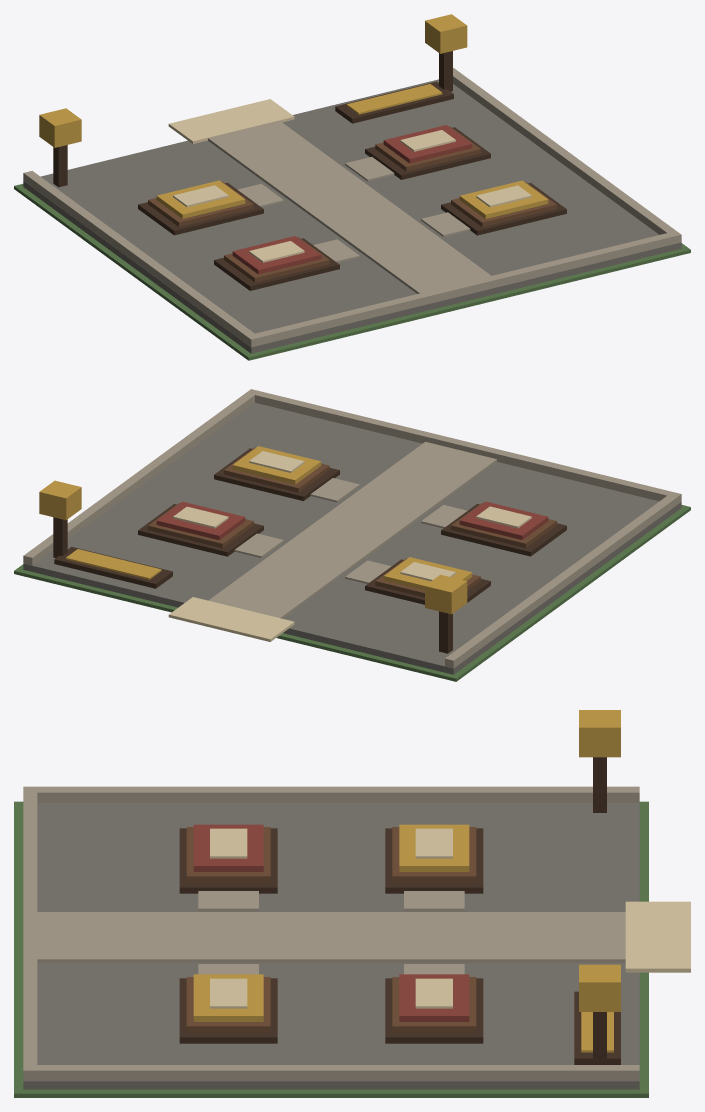
File: KLC_Plot_PlayerBase_Floor01.fbx
3 renders of one model, top to bottom at view 1: azimuth 30°, elevation 25°; view 2: azimuth 150°, elevation 25°; view 3: azimuth 270°, elevation 25°, orthographic. The views are drawn at different scales.
Visible parts, largest first — view 1: F1_Main_Slab, F1_Central_Aisle, F1_Rear_Curb, F1_Grass_Foundation, F1_Left_Curb, F1_Right_Curb, F1_Entrance_Apron, F1_Podium_Top_02, F1_Podium_Top_06, F1_Podium_Top_07, F1_Podium_Top_01, F1_Left_Lamp (+21 smaller); view 2: F1_Main_Slab, F1_Central_Aisle, F1_Rear_Curb, F1_Grass_Foundation, F1_Left_Curb, F1_Right_Curb, F1_Entrance_Apron, F1_Podium_Top_06, F1_Podium_Top_02, F1_Podium_Top_07, F1_Right_Lamp, F1_Left_Lamp (+21 smaller); view 3: F1_Main_Slab, F1_Central_Aisle, F1_Grass_Foundation, F1_Left_Curb, F1_Right_Curb, F1_Entrance_Apron, F1_Rear_Curb, F1_Podium_Top_06, F1_Podium_Top_07, F1_Podium_Top_01, F1_Podium_Top_02, F1_Podium_Base_06 (+21 smaller).
Boxes of the visible parts, left/top/right/bottom form: F1_Main_Slab: left=23, top=79, right=681, bottom=353; F1_Central_Aisle: left=208, top=120, right=502, bottom=303; F1_Rear_Curb: left=255, top=233, right=672, bottom=344; F1_Grass_Foundation: left=14, top=184, right=690, bottom=360; F1_Left_Curb: left=23, top=170, right=259, bottom=347; F1_Right_Curb: left=453, top=68, right=681, bottom=244; F1_Entrance_Apron: left=168, top=99, right=294, bottom=143; F1_Podium_Top_02: left=232, top=236, right=321, bottom=274; F1_Podium_Top_06: left=383, top=125, right=472, bottom=163; F1_Podium_Top_07: left=459, top=180, right=548, bottom=218; F1_Podium_Top_01: left=156, top=180, right=245, bottom=218; F1_Left_Lamp: left=39, top=108, right=81, bottom=147; F1_Main_Slab: left=23, top=402, right=681, bottom=674; F1_Central_Aisle: left=208, top=442, right=496, bottom=618; F1_Rear_Curb: left=255, top=391, right=671, bottom=501; F1_Grass_Foundation: left=14, top=505, right=690, bottom=681; F1_Left_Curb: left=445, top=492, right=681, bottom=668; F1_Right_Curb: left=23, top=389, right=259, bottom=565; F1_Entrance_Apron: left=168, top=597, right=294, bottom=641; F1_Podium_Top_06: left=156, top=501, right=245, bottom=540; F1_Podium_Top_02: left=459, top=501, right=548, bottom=539; F1_Podium_Top_07: left=232, top=446, right=321, bottom=484; F1_Right_Lamp: left=39, top=480, right=81, bottom=520; F1_Left_Lamp: left=425, top=574, right=467, bottom=614; F1_Main_Slab: left=23, top=803, right=639, bottom=1089; F1_Central_Aisle: left=37, top=912, right=625, bottom=962; F1_Grass_Foundation: left=14, top=801, right=648, bottom=1097; F1_Left_Curb: left=23, top=786, right=639, bottom=802; F1_Right_Curb: left=23, top=1065, right=639, bottom=1080; F1_Entrance_Apron: left=625, top=901, right=690, bottom=972; F1_Rear_Curb: left=23, top=792, right=37, bottom=1064; F1_Podium_Top_06: left=399, top=974, right=469, bottom=1021; F1_Podium_Top_07: left=193, top=974, right=263, bottom=1021; F1_Podium_Top_01: left=399, top=824, right=469, bottom=871; F1_Podium_Top_02: left=193, top=824, right=263, bottom=871; F1_Podium_Base_06: left=385, top=978, right=483, bottom=1043.
Bounding box in the file's own units: 1850 × 312 × 1812.
8 materials, 8 textured.
